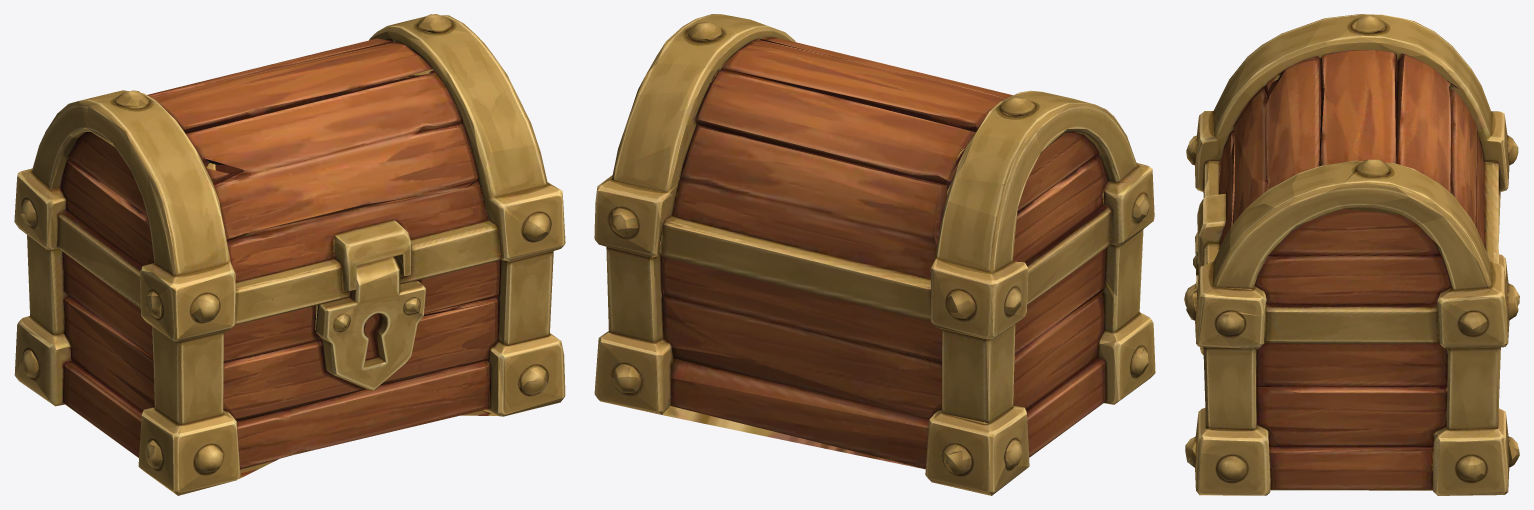
The model's file is chest.hq.glb.
3 renders of one model, left to right at view 1: azimuth 30°, elevation 25°; view 2: azimuth 150°, elevation 25°; view 3: azimuth 270°, elevation 25°, orthographic. The views are drawn at different scales.
Parts seen in each view (by area): view 1: output_unwrapped; view 2: output_unwrapped; view 3: output_unwrapped.
Part boxes in pixels (x1,y1,x2,y2): output_unwrapped: (14, 14, 565, 495); output_unwrapped: (594, 14, 1155, 495); output_unwrapped: (1184, 14, 1519, 495).
Size of the model in its own units: 1.9 by 1.47 by 1.4.
1 material, 1 textured.
